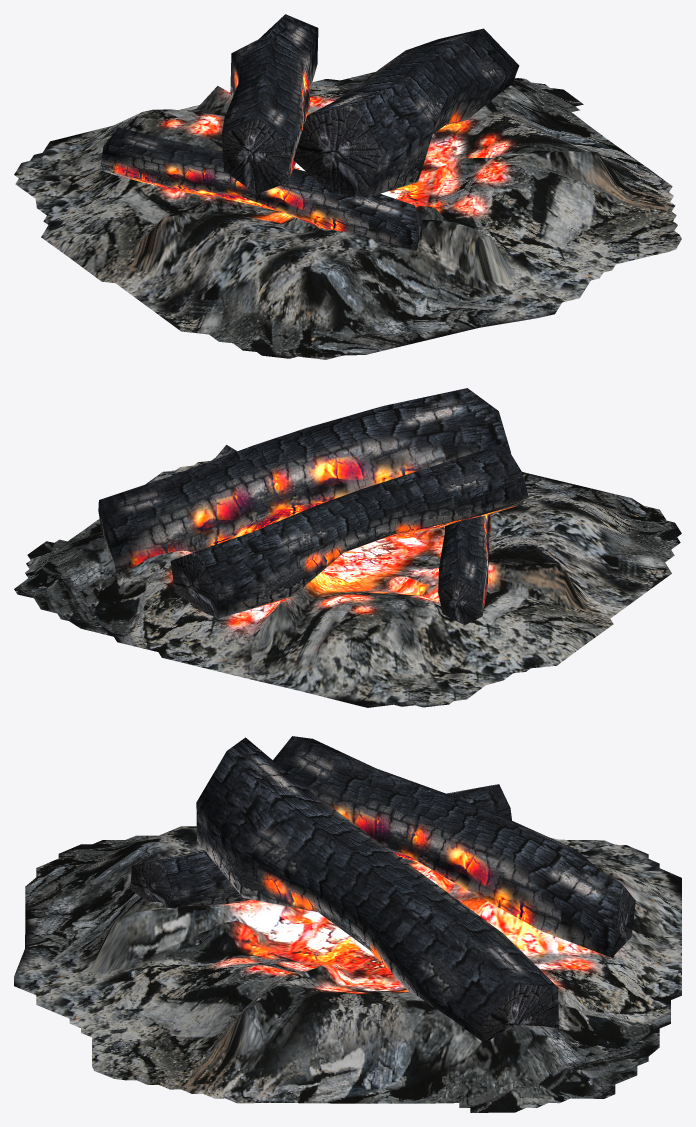
File: FIRE.fbx
3 views of the same model, one above another, from view 1: azimuth 30°, elevation 25°; view 2: azimuth 150°, elevation 25°; view 3: azimuth 270°, elevation 25° (orthographic). The views are drawn at different scales.
Parts seen in each view (by area): view 1: Plane; view 2: Plane; view 3: Plane.
Boxes of the visible parts, <box> form: Plane: <box>14,14,681,359</box>; Plane: <box>14,388,681,707</box>; Plane: <box>14,736,681,1112</box>.
Bounding box in the file's own units: 471 × 141 × 455.
2 materials, 2 textured.
